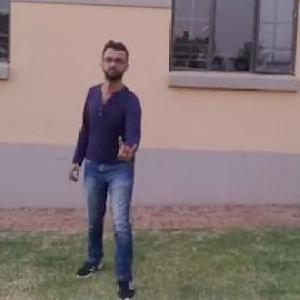takeoff-hand: (111, 131, 142, 165)
